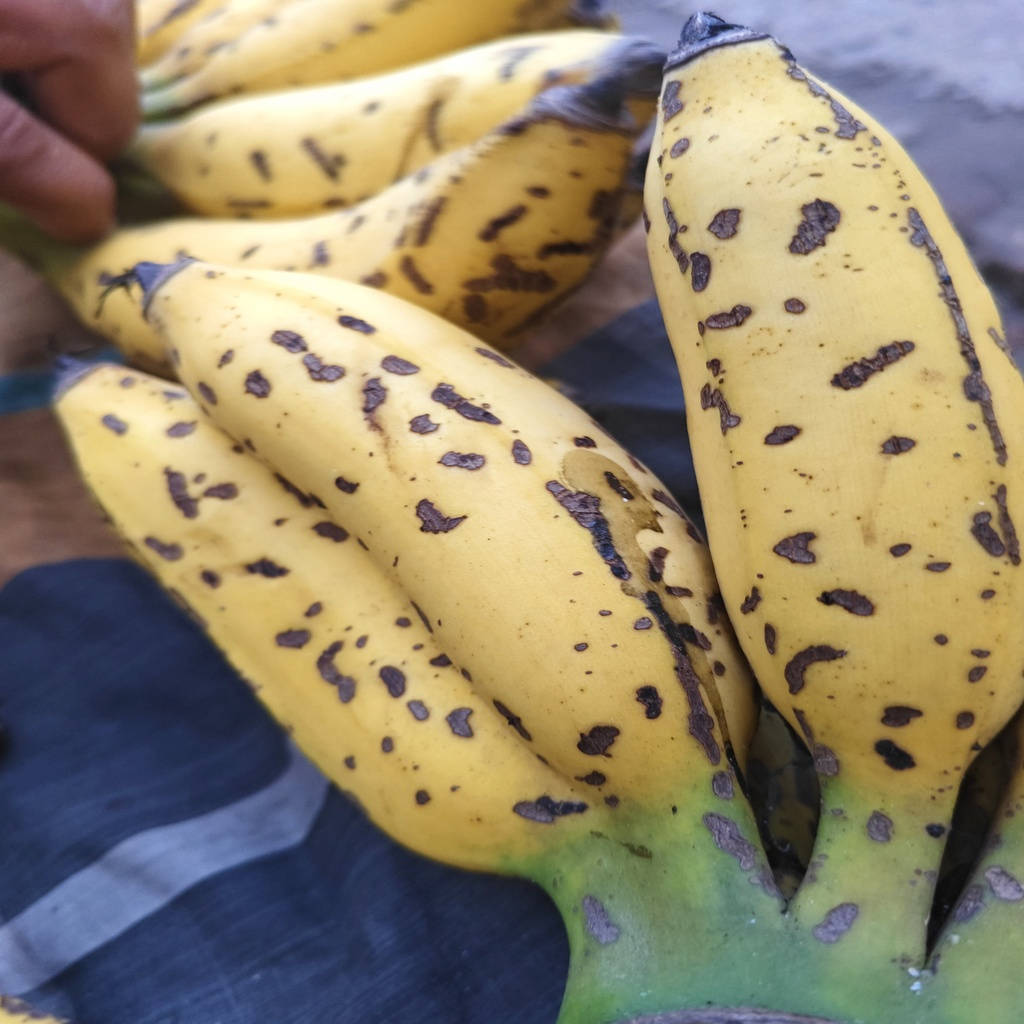unhealthy: (136, 263, 760, 802), (645, 29, 1024, 767)
